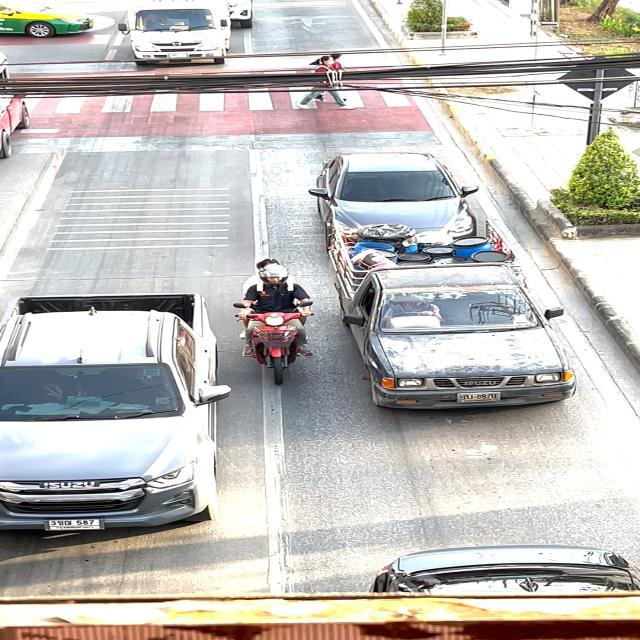car: (1, 275, 217, 553), (324, 232, 599, 430), (303, 137, 504, 245), (350, 535, 640, 594), (104, 0, 246, 74)
